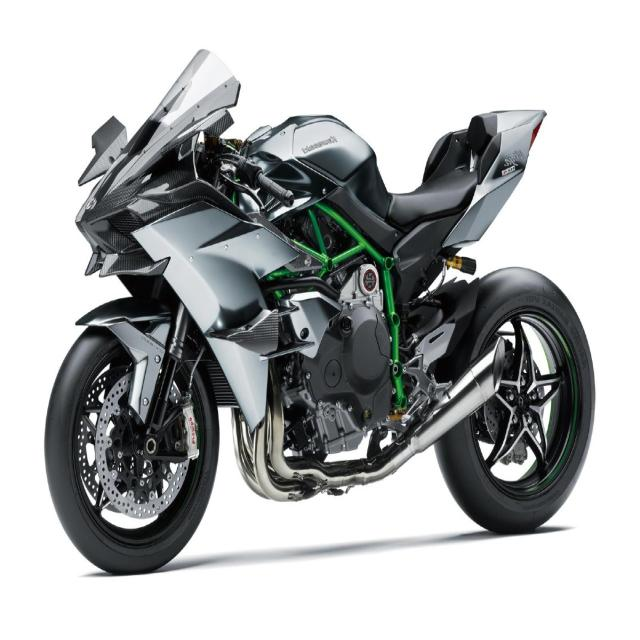motorcycle: (45, 50, 595, 571)
